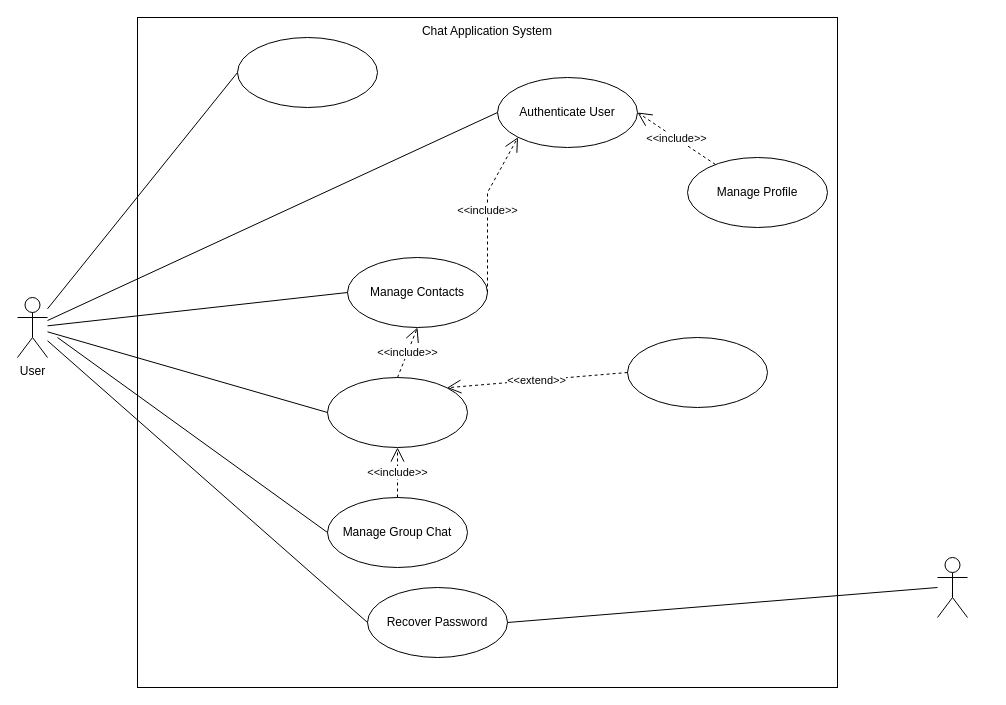
The diagram is 1006 pixels wide and 705 high, and some of its shapes have lost their labels. The shapes that lost their labels are listed below. From the top down, each one's centre as x and y in pixels, then its label:
point (307, 72): Register Account
point (697, 372): Send File/Image
point (397, 412): Send Message
point (952, 587): Email Service
